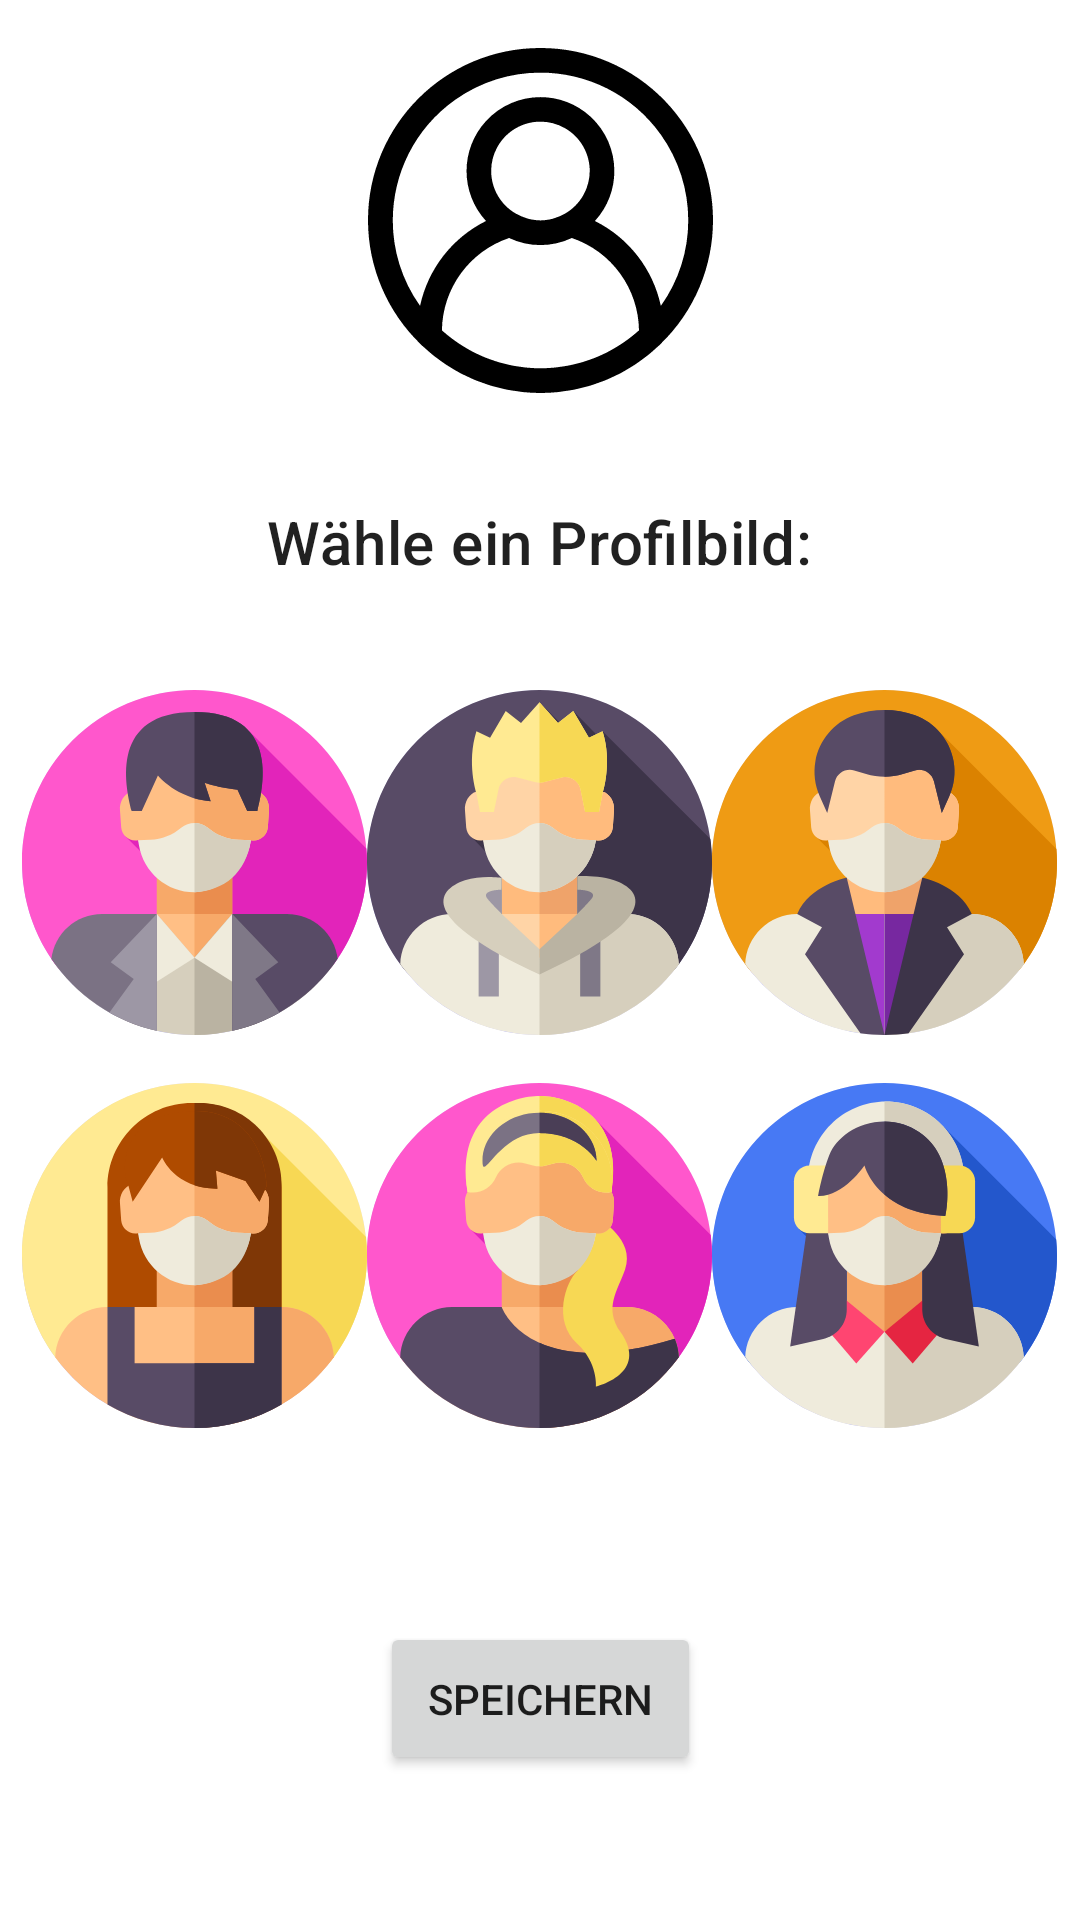

Where icons sit on this 1080×1920 app screen, as (x1,y1,x2,y2):
user: (368,48,713,393)
user man: (22,690,367,1035), (367,690,712,1035), (712,690,1057,1035)
user woman: (22,1083,367,1428), (367,1083,712,1428), (712,1083,1057,1428)
